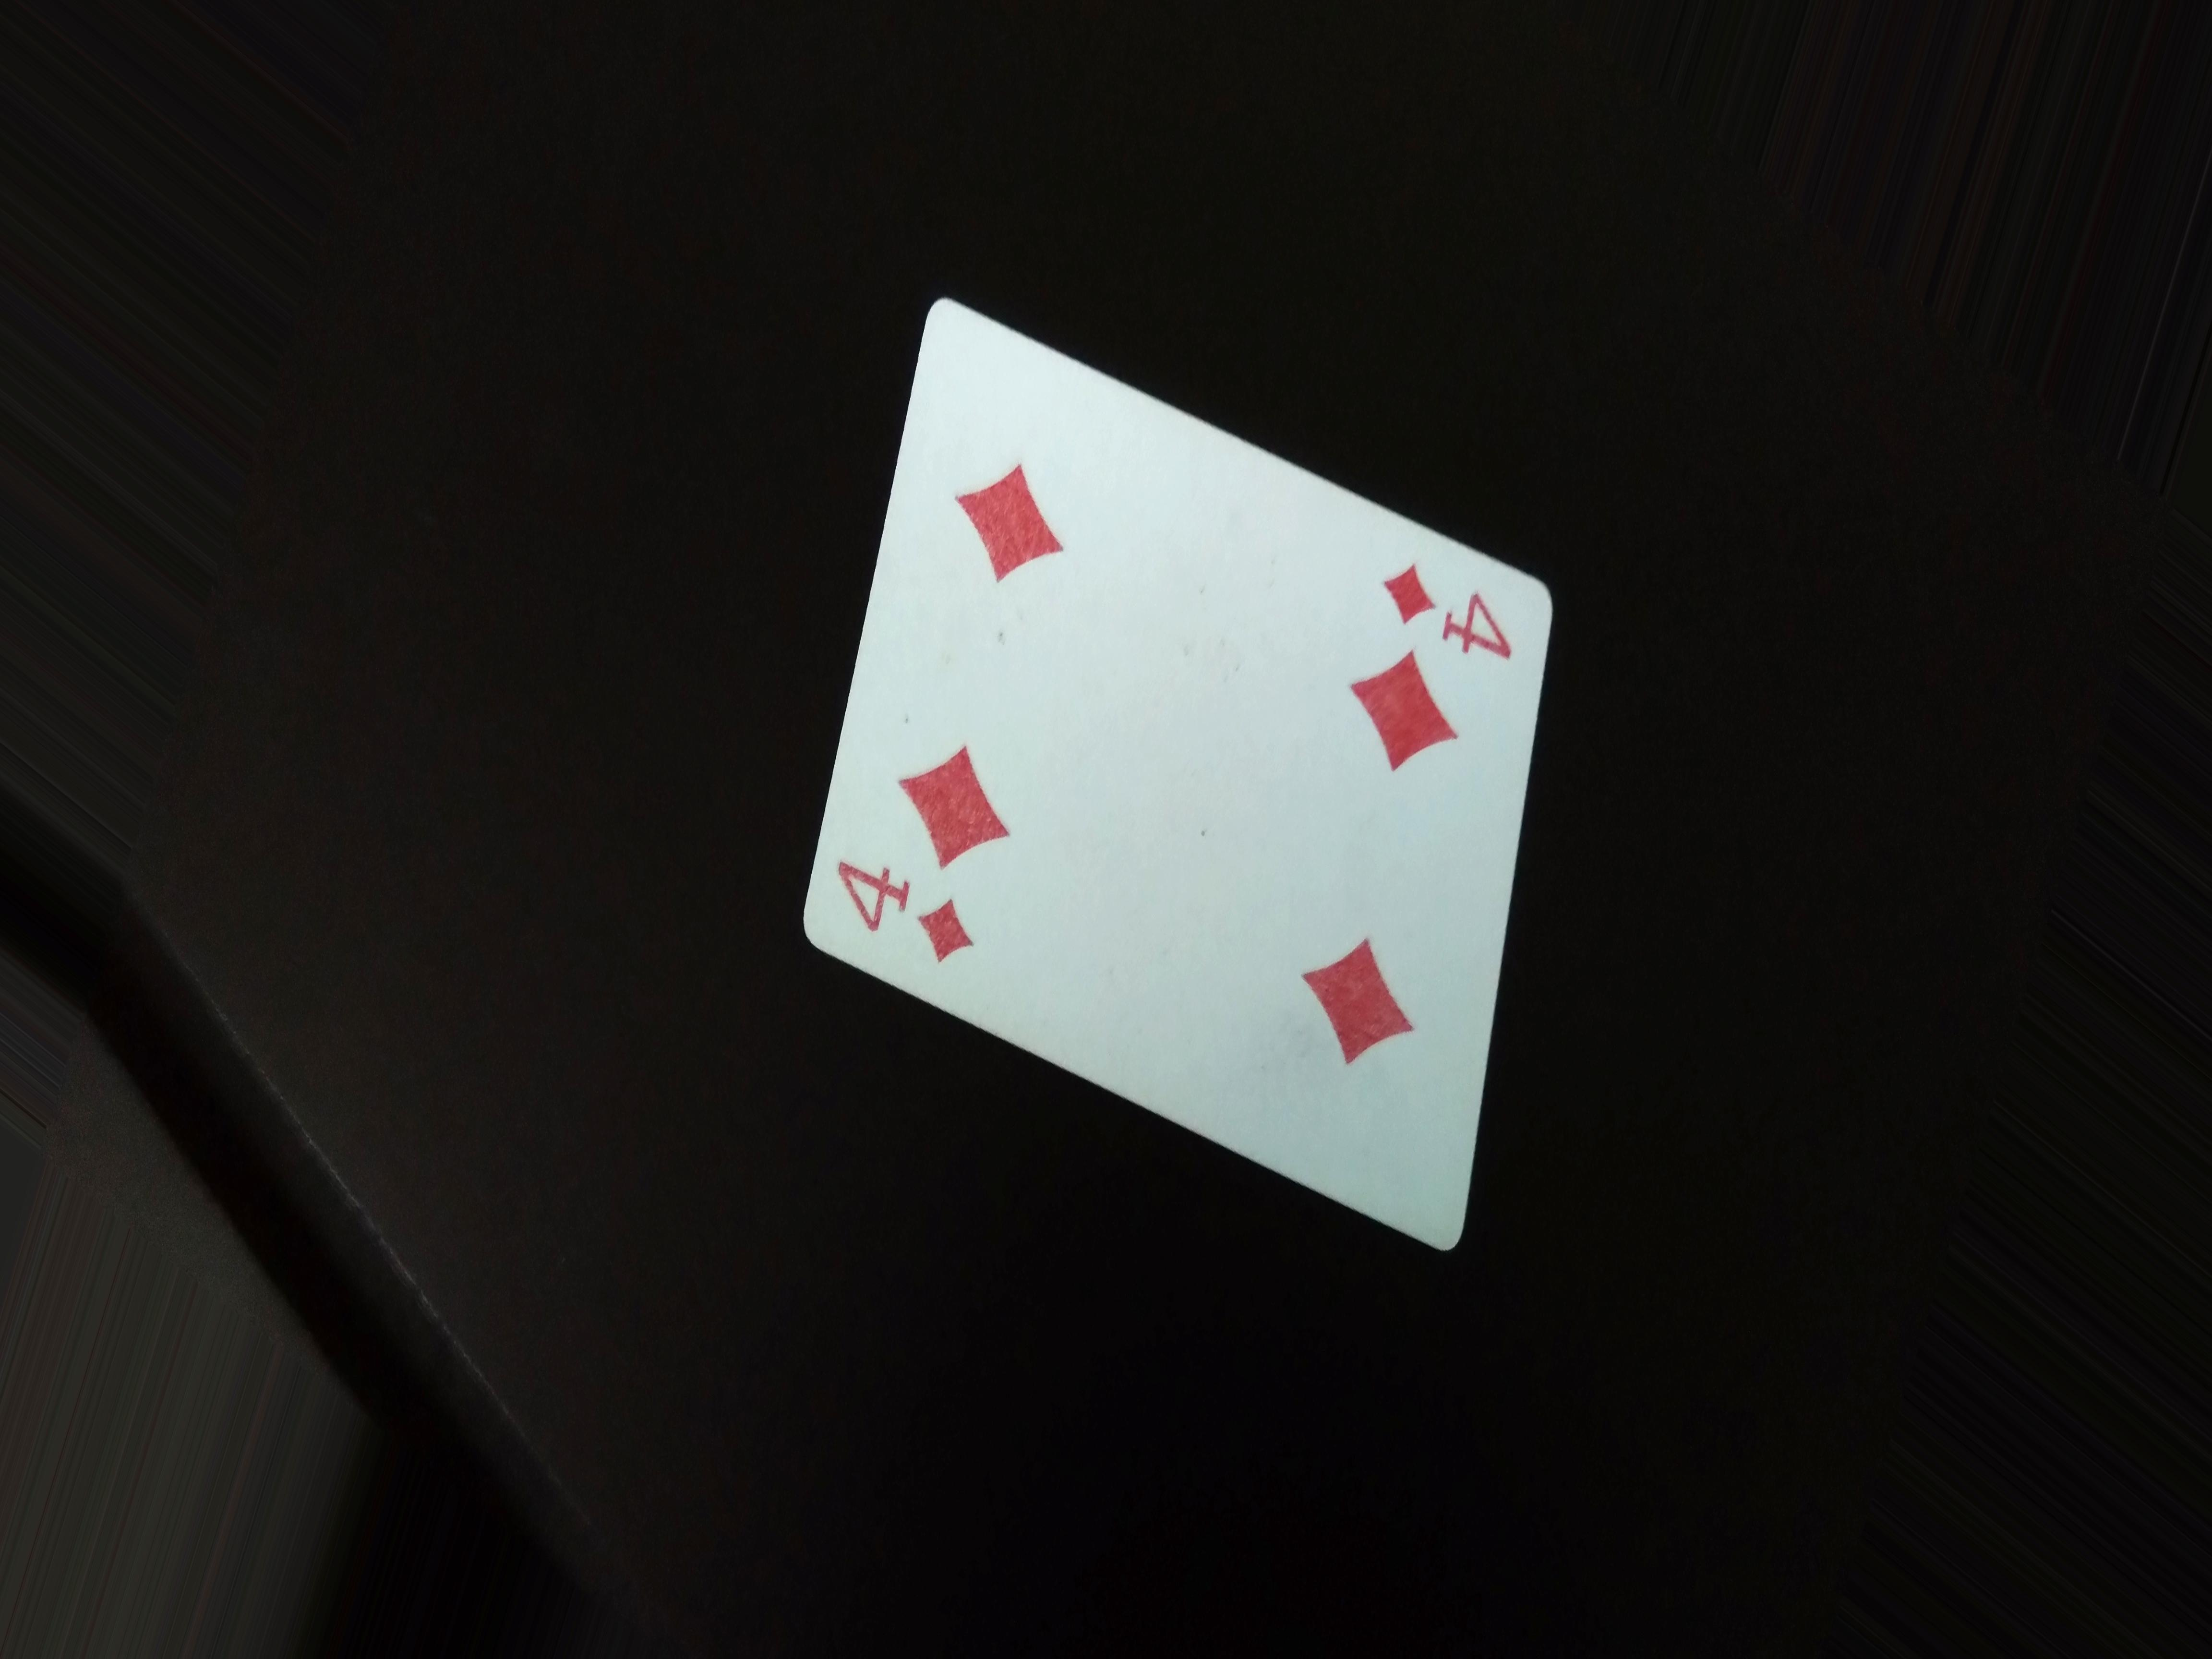4D: (1374, 547, 1517, 653)
